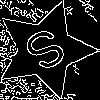S: (20, 24, 76, 82)
